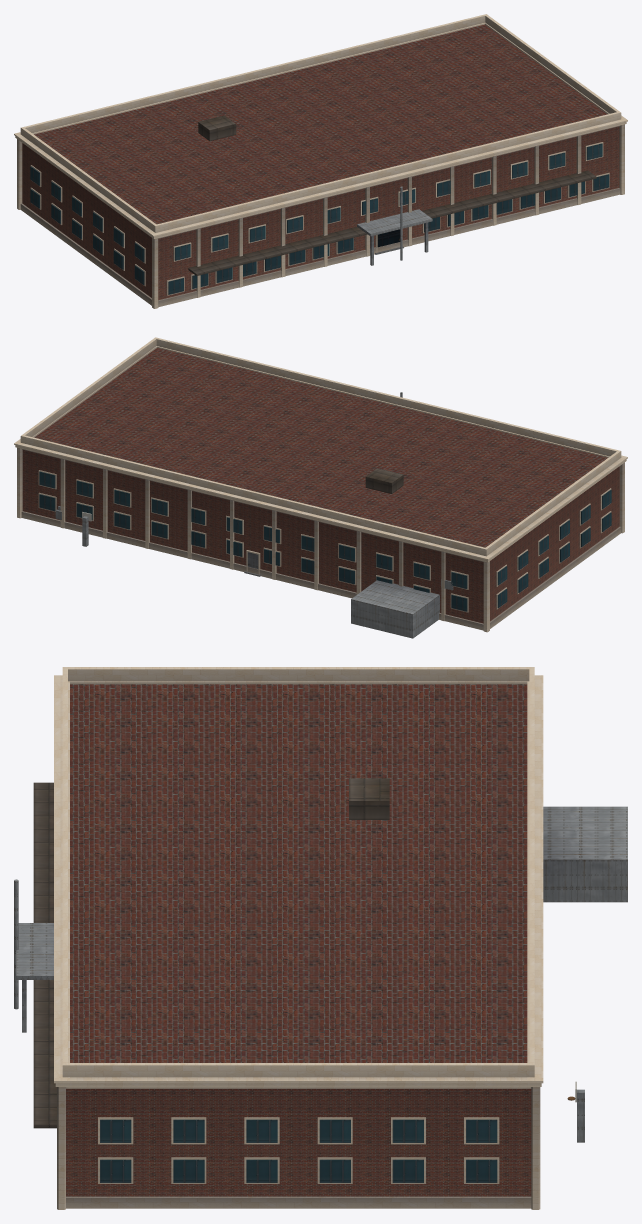
Rendered from elementary-school_lod0.gltf.
3 renders of one model, top to bottom at view 1: azimuth 30°, elevation 25°; view 2: azimuth 150°, elevation 25°; view 3: azimuth 270°, elevation 25°, orthographic. The views are drawn at different scales.
Visible parts, largest first — view 1: elementary-school_main, elementary-school__v4_stone_detail, elementary-school_fen_07-glass-curtain-blue_4, elementary-school__v4_metal_detail, elementary-school_fen_04-limestone_0, elementary-school__entry_canopy; view 2: elementary-school_main, elementary-school__v4_stone_detail, elementary-school_fen_07-glass-curtain-blue_4, elementary-school__playground, elementary-school_fen_04-limestone_0, elementary-school__v4_metal_detail; view 3: elementary-school_main, elementary-school__v4_stone_detail, elementary-school_fen_07-glass-curtain-blue_4, elementary-school__playground, elementary-school__v4_metal_detail, elementary-school_fen_04-limestone_0, elementary-school__entry_canopy.
Part boxes in pixels (x1,y1,x2,y2): elementary-school_main: [22, 24, 619, 300]; elementary-school__v4_stone_detail: [14, 14, 627, 308]; elementary-school_fen_07-glass-curtain-blue_4: [30, 143, 609, 294]; elementary-school__v4_metal_detail: [188, 115, 596, 275]; elementary-school_fen_04-limestone_0: [30, 142, 609, 295]; elementary-school__entry_canopy: [357, 209, 432, 236]; elementary-school_main: [22, 348, 619, 623]; elementary-school__v4_stone_detail: [14, 337, 627, 632]; elementary-school_fen_07-glass-curtain-blue_4: [39, 471, 611, 611]; elementary-school__playground: [351, 580, 439, 638]; elementary-school_fen_04-limestone_0: [38, 470, 611, 612]; elementary-school__v4_metal_detail: [365, 468, 403, 493]; elementary-school_main: [66, 684, 531, 1196]; elementary-school__v4_stone_detail: [54, 667, 543, 1209]; elementary-school_fen_07-glass-curtain-blue_4: [100, 1119, 497, 1182]; elementary-school__playground: [543, 806, 627, 902]; elementary-school__v4_metal_detail: [33, 778, 389, 1128]; elementary-school_fen_04-limestone_0: [98, 1117, 499, 1183]; elementary-school__entry_canopy: [16, 923, 53, 979].
Size of the model in its own units: 61.22 by 10.35 by 39.15.
